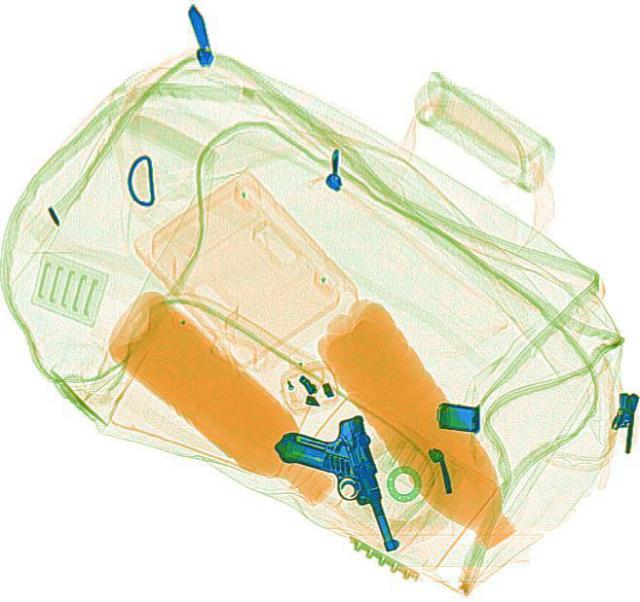Gun: (267, 408, 409, 569)
